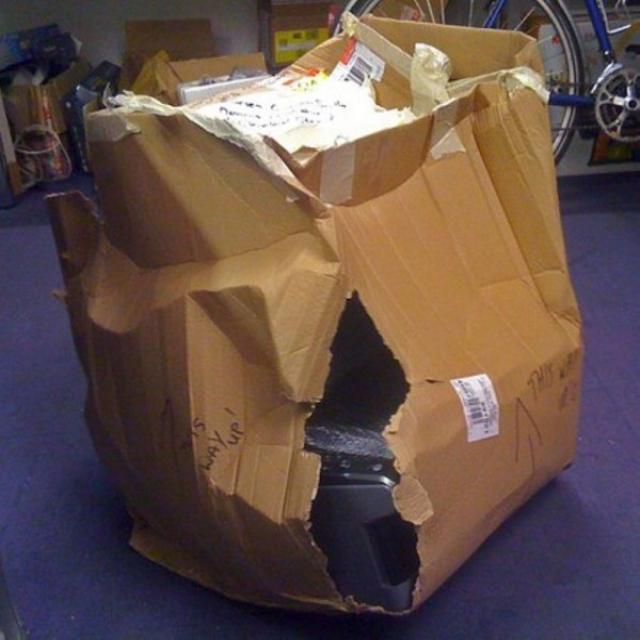tear: (221, 269, 440, 608), (82, 18, 556, 162)
